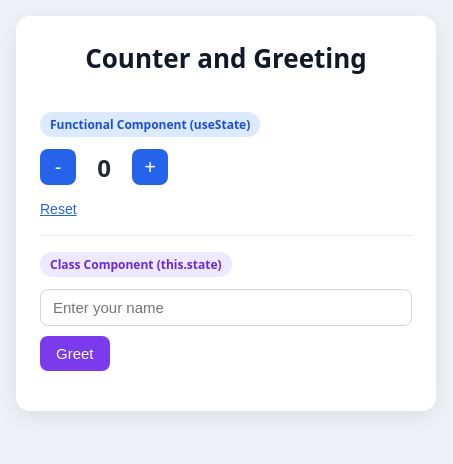
it: Counter and Greeting App › verify_high_count_message_shows_at_five_or_more
Click the button with id "increaseBtn" at (150, 167), box x1=132 y1=149 x2=168 y2=185
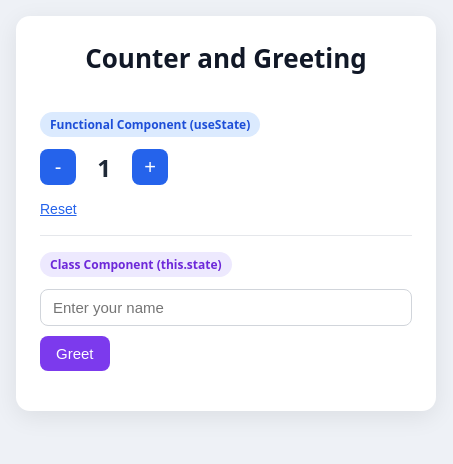
Click the button with id "increaseBtn" at (150, 167), box x1=132 y1=149 x2=168 y2=185
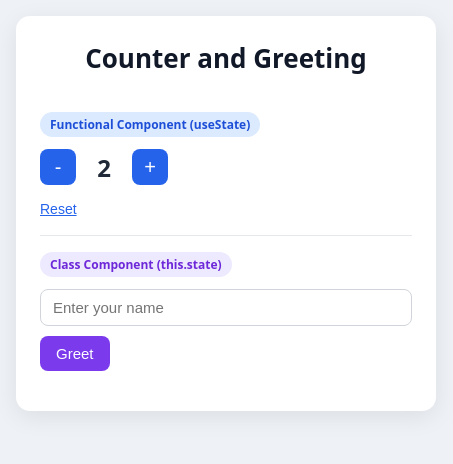
Click the button with id "increaseBtn" at (150, 167), box x1=132 y1=149 x2=168 y2=185
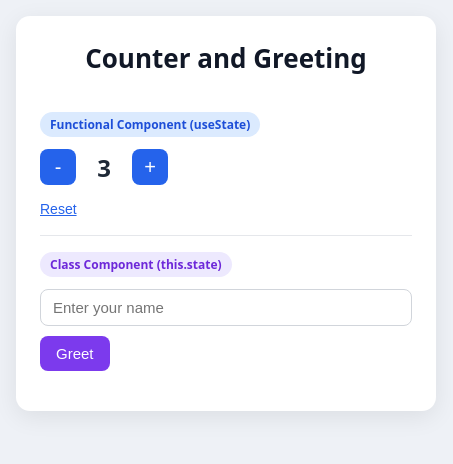
Click the button with id "increaseBtn" at (150, 167), box x1=132 y1=149 x2=168 y2=185
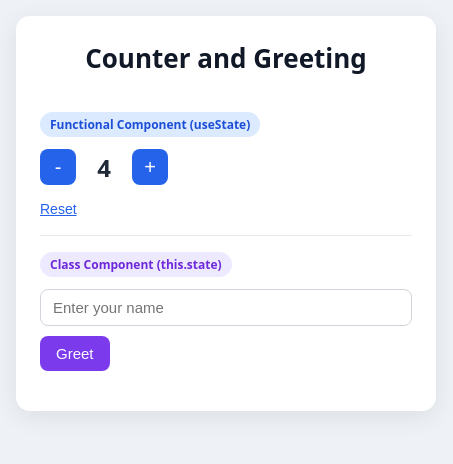
Click the button with id "increaseBtn" at (150, 167), box x1=132 y1=149 x2=168 y2=185
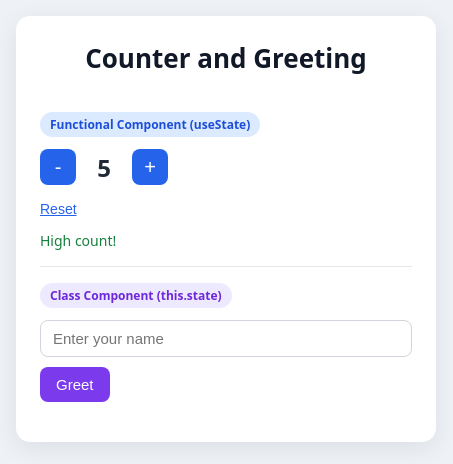
Expected: the text with id "countMessage" reads "High count!", x1=40 y1=231 x2=116 y2=250
Click the button with id "decreaseBtn" at (58, 167), box x1=40 y1=149 x2=76 y2=185
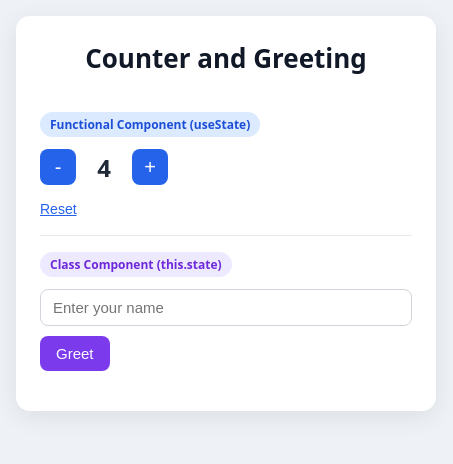
Expected: the text with id "countMessage" is gone
